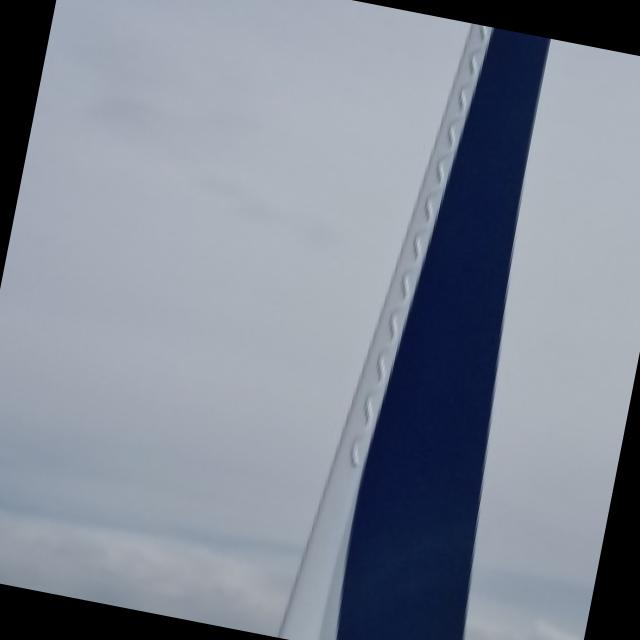healthy: (284, 24, 551, 640)
